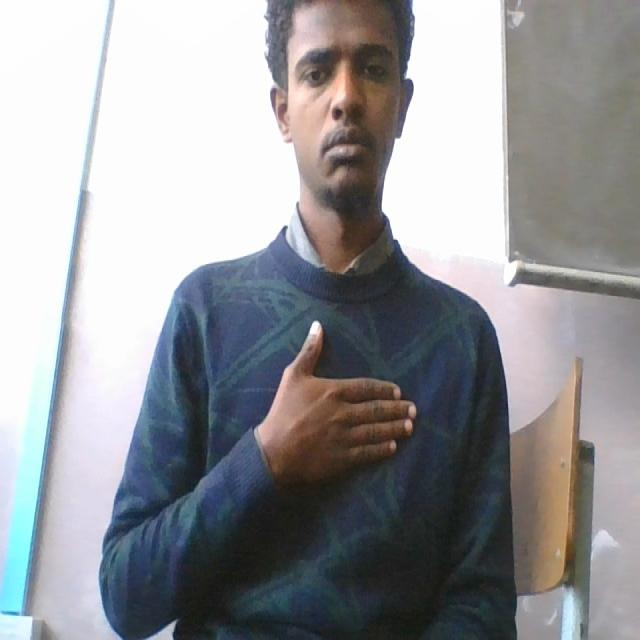yene: (258, 316, 423, 478)
